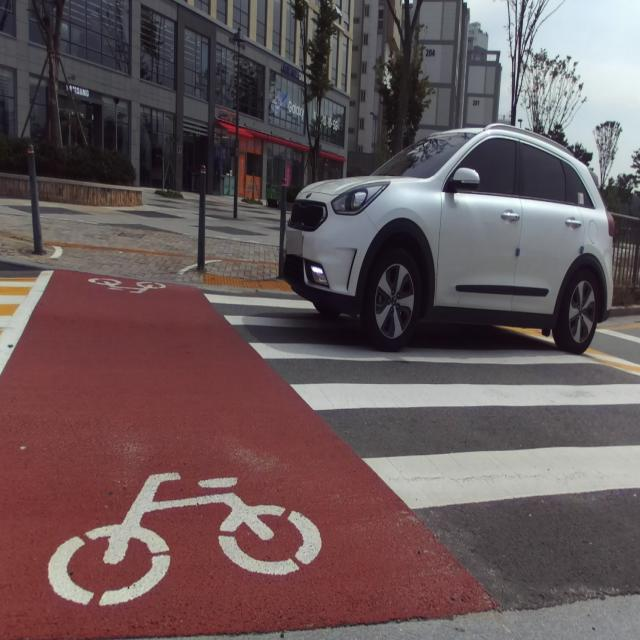횡단보도: (204, 293, 639, 509)
